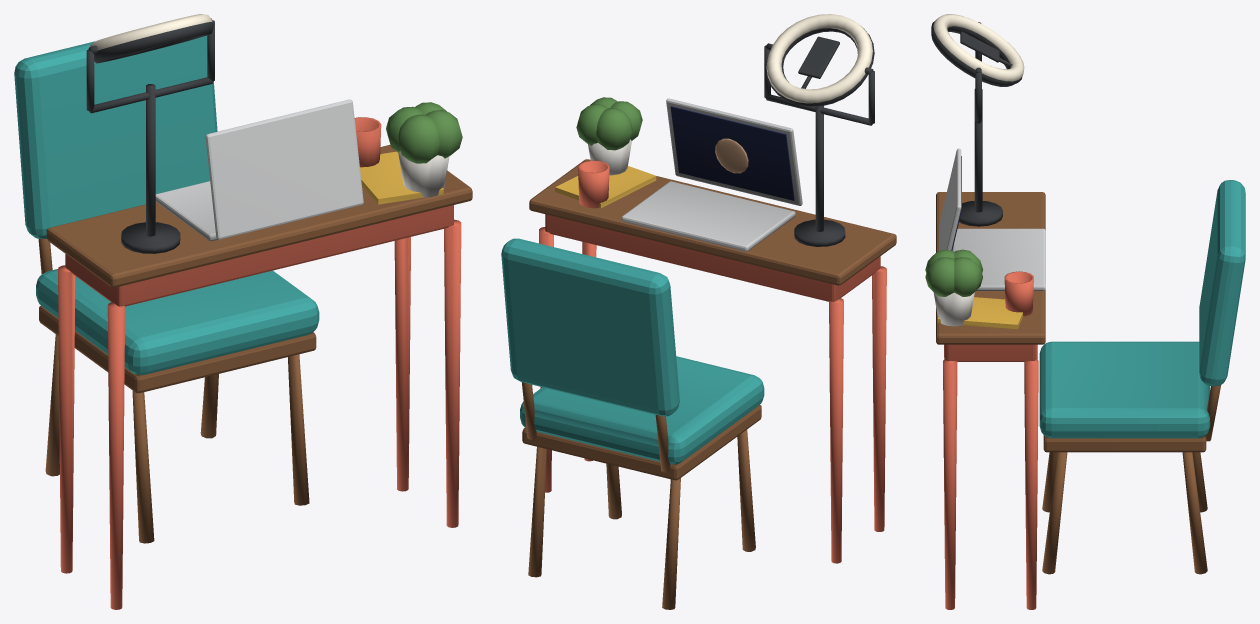
Rendered from videoCallNook.glb.
The picture shows the model from 3 angles, left to right: view 1: azimuth 30°, elevation 25°; view 2: azimuth 150°, elevation 25°; view 3: azimuth 270°, elevation 25°; orthographic projection. The views are drawn at different scales.
Parts seen in each view (by area): view 1: body, ring; view 2: body, ring; view 3: body, ring.
Part boxes in pixels (bbox=[...]): body: bbox=[14, 20, 472, 609]; ring: bbox=[88, 14, 214, 63]; body: bbox=[501, 45, 896, 609]; ring: bbox=[766, 14, 874, 106]; body: bbox=[925, 51, 1245, 609]; ring: bbox=[931, 14, 1024, 86].
Bounding box in the file's own units: 0.84 × 1.28 × 0.7881.
